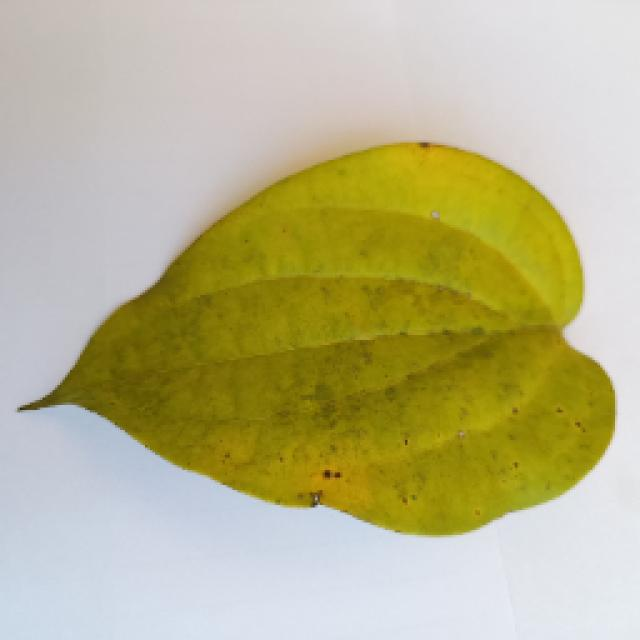slow-decline: (5, 135, 613, 563)
